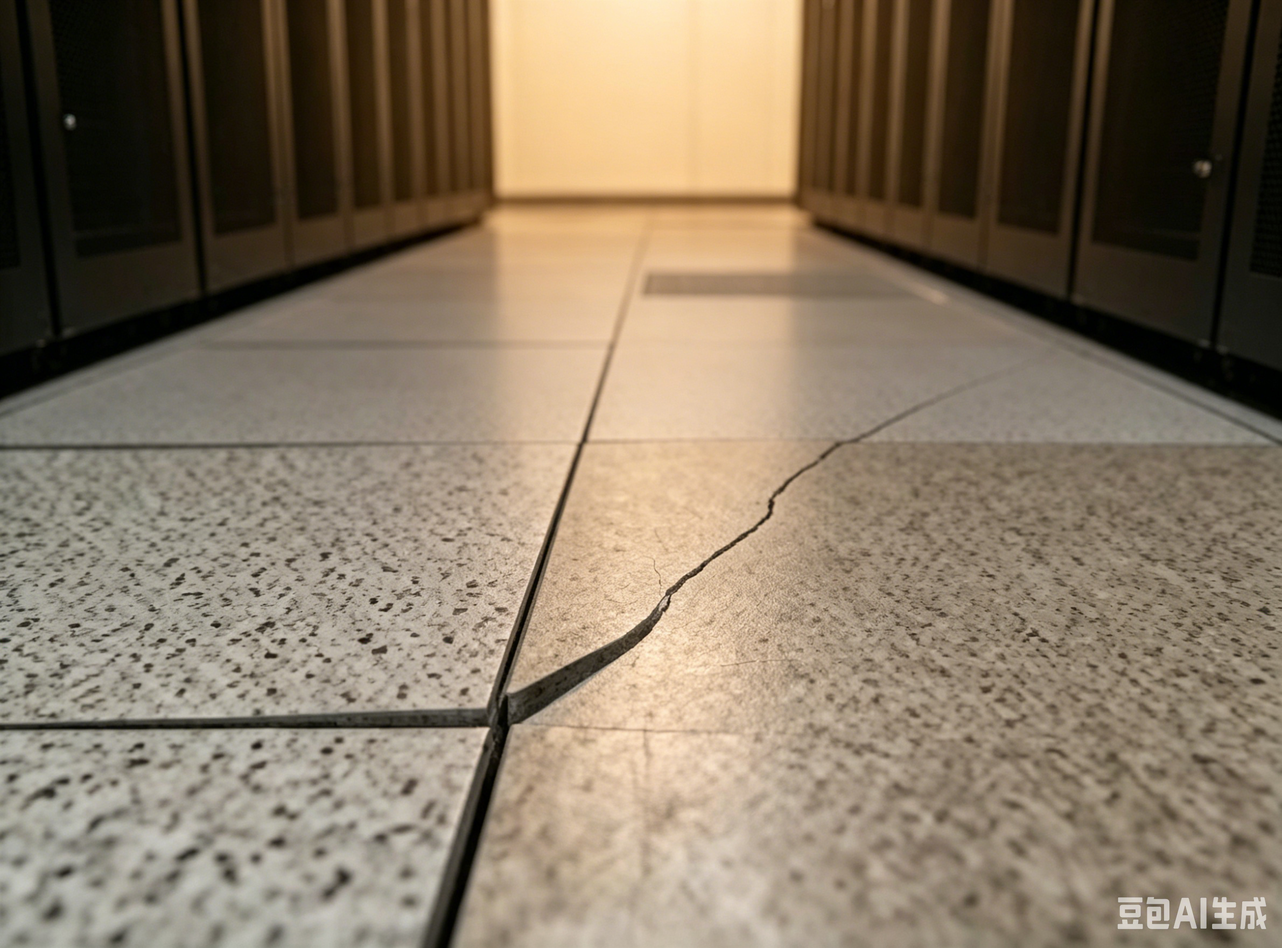floor_defect: (0, 685, 527, 764), (412, 768, 517, 943), (512, 615, 656, 718), (735, 436, 861, 536), (627, 534, 758, 617), (837, 392, 960, 438)
